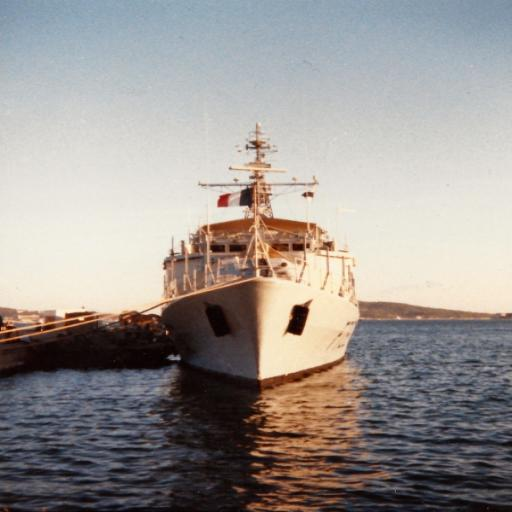Fragata: (150, 95, 361, 393)
